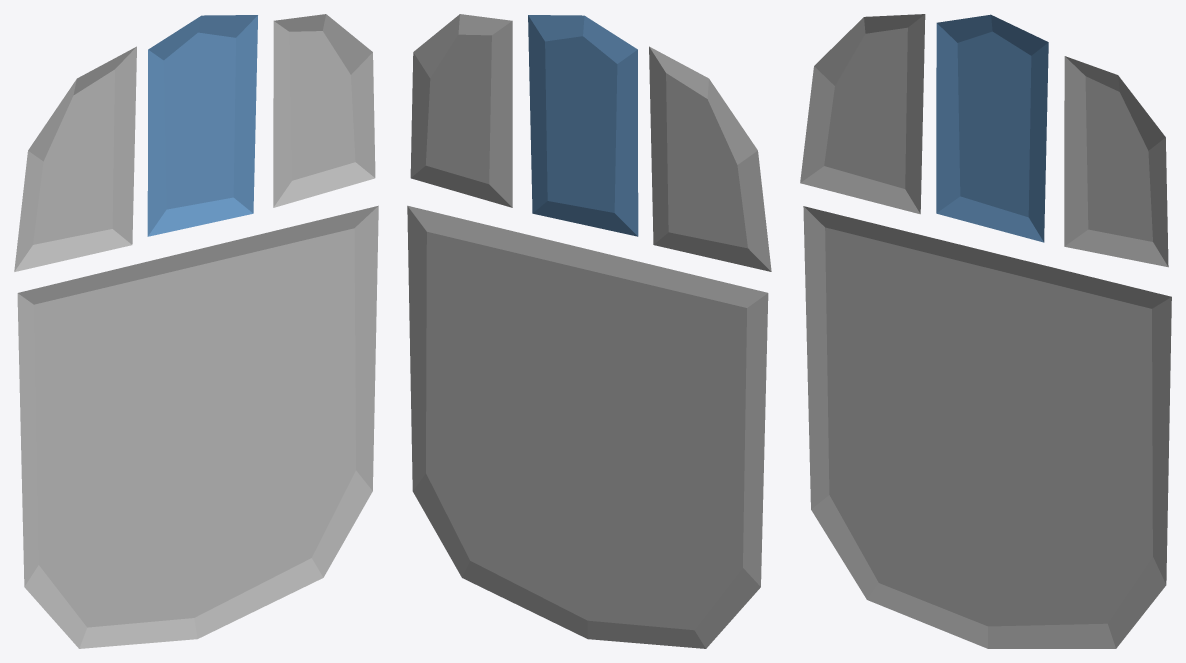
The model's file is icon_middleMouse.glb.
The picture shows the model from 3 angles, left to right: view 1: azimuth 30°, elevation 25°; view 2: azimuth 150°, elevation 25°; view 3: azimuth 330°, elevation 25°; orthographic projection. The views are drawn at different scales.
Visible parts, largest first — view 1: Cube.001; view 2: Cube.001; view 3: Cube.001.
Part boxes in pixels (x1=…): Cube.001: x1=14, y1=14, x2=378, y2=648; Cube.001: x1=407, y1=14, x2=771, y2=648; Cube.001: x1=800, y1=14, x2=1171, y2=648.
Size of the model in its own units: 1.06 by 1.73 by 0.0126.
